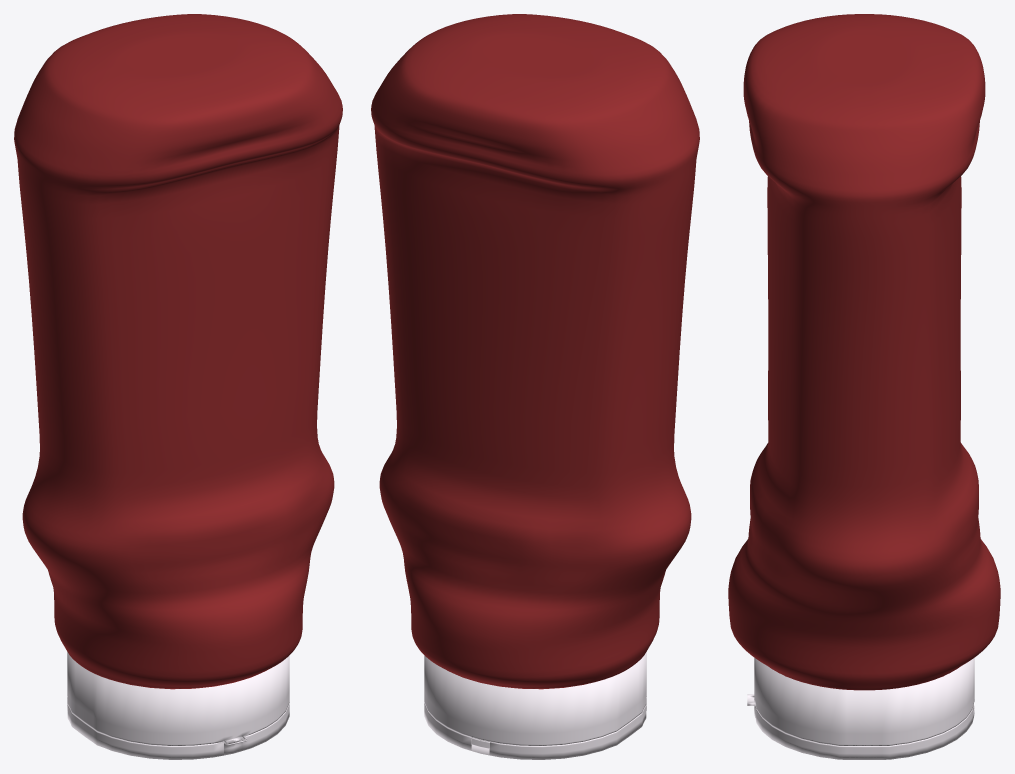
The model's file is Ketchup.fbx.
3 renders of one model, left to right at view 1: azimuth 30°, elevation 25°; view 2: azimuth 150°, elevation 25°; view 3: azimuth 270°, elevation 25°, orthographic.
Parts seen in each view (by area): view 1: 3_ketchup bottle; view 2: 3_ketchup bottle; view 3: 3_ketchup bottle.
Part boxes in pixels (bbox=[...]): 3_ketchup bottle: bbox=[14, 14, 342, 759]; 3_ketchup bottle: bbox=[371, 14, 699, 759]; 3_ketchup bottle: bbox=[728, 14, 1000, 759].
Size of the model in its own units: 9.57 by 20.03 by 7.54.
